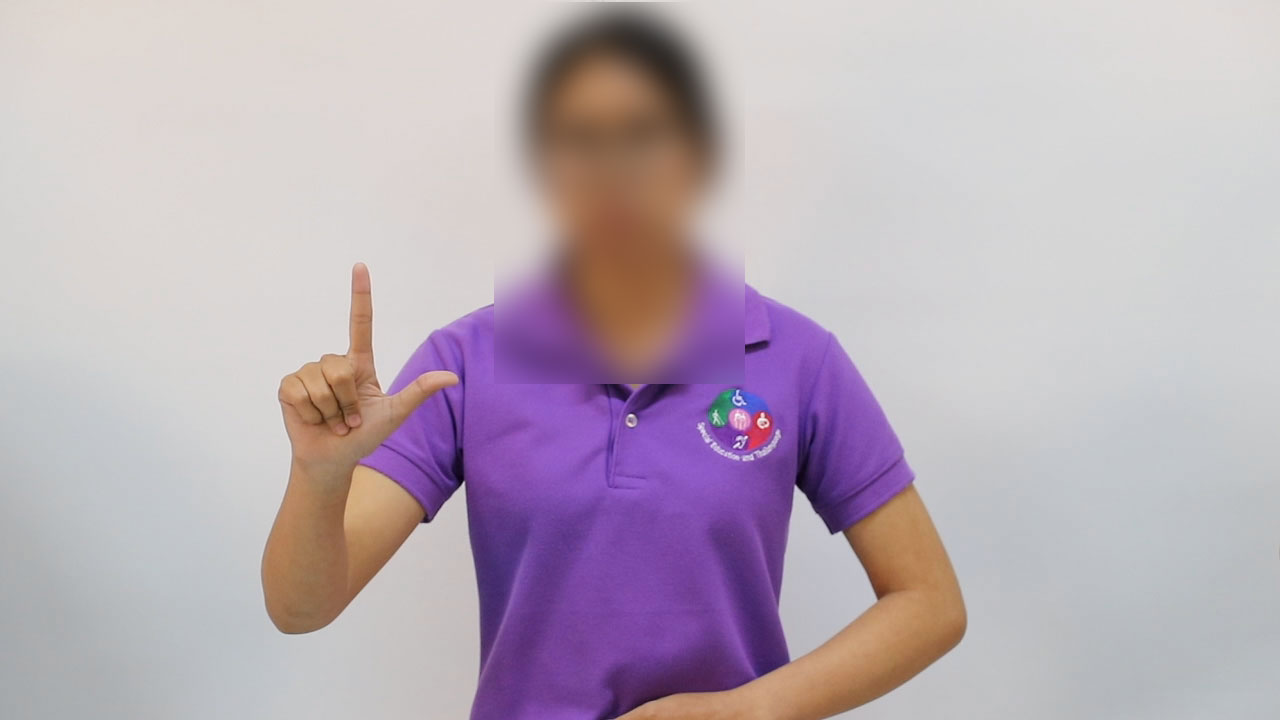lor: (240, 252, 477, 462)
